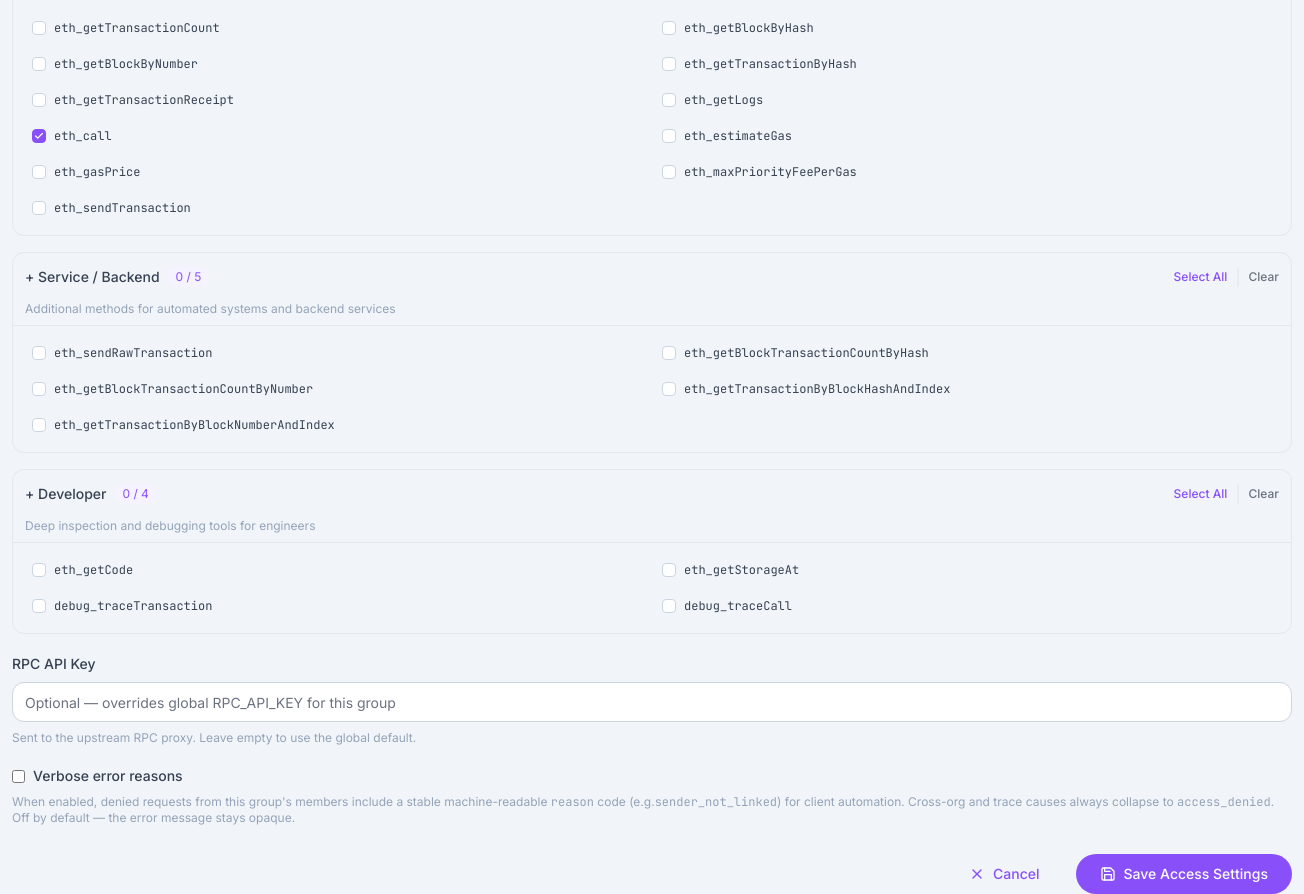
GroupAccessForm › Saving › error shows error message
(page scrolled)
Click the button "Save Access Settings": (1184, 874) [1076, 854, 1292, 893]
(page scrolled)
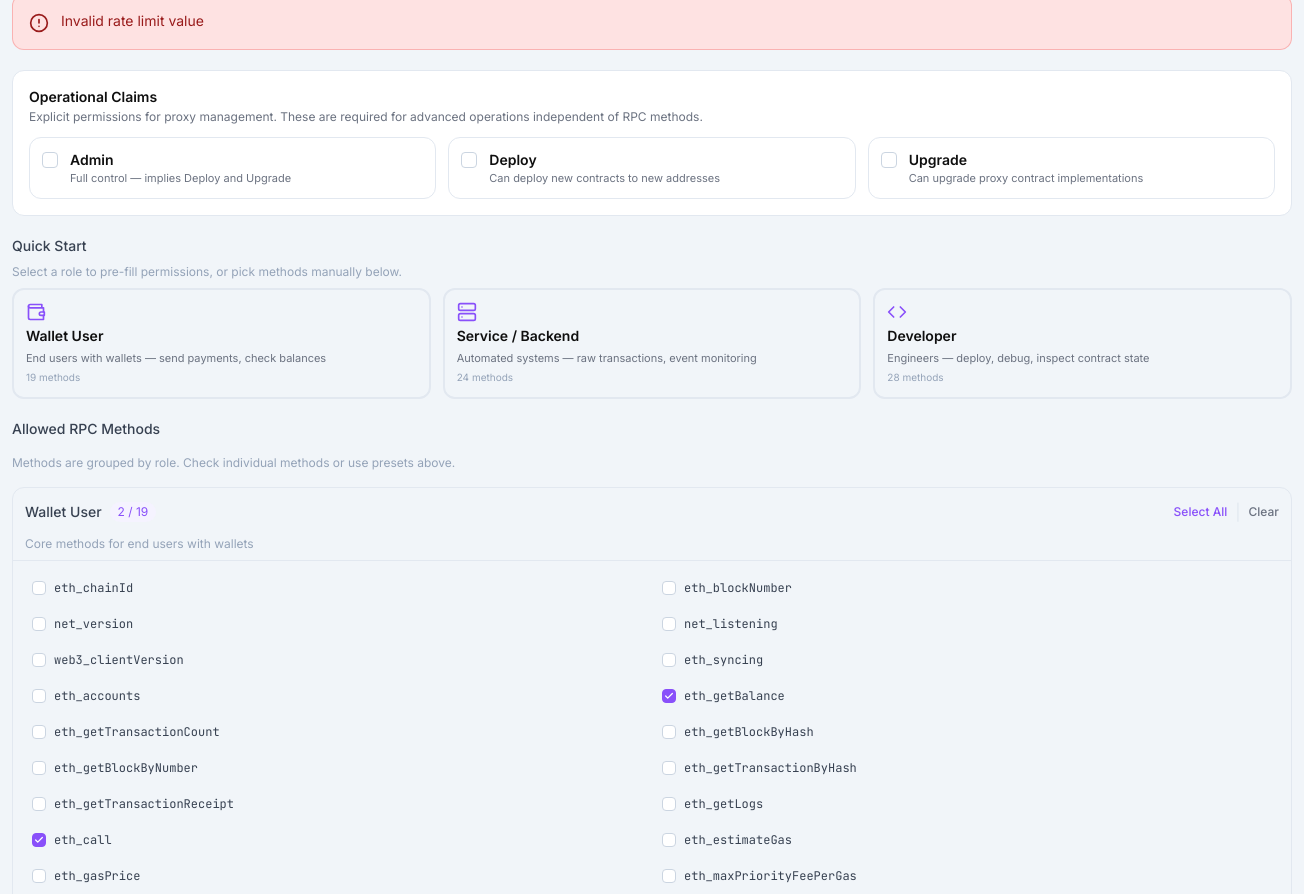
Now the text "Invalid rate limit value" is shown, box [61, 11, 204, 31]
